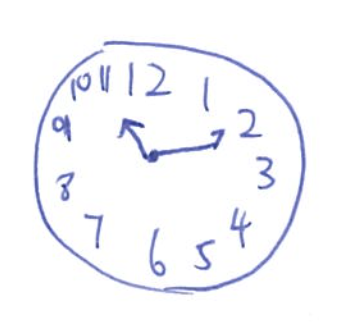1: (202, 75, 212, 113)
10: (70, 72, 92, 102)
11: (99, 61, 112, 93)
12: (126, 60, 171, 98)
2: (236, 106, 264, 140)
3: (253, 153, 276, 191)
4: (227, 204, 253, 249)
5: (194, 237, 217, 271)
6: (148, 224, 169, 278)
7: (83, 211, 104, 251)
8: (55, 170, 76, 201)
9: (51, 113, 73, 144)
contour: (31, 38, 309, 297)
hand: (118, 115, 226, 163)
top_left_arrow: (118, 116, 146, 158)
top_right_arrow: (158, 129, 225, 157)
